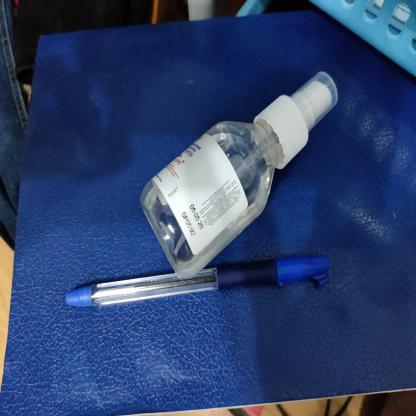pen: (67, 248, 329, 338)
